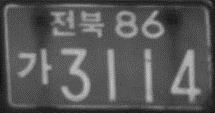1: (142, 47, 156, 105), (105, 47, 118, 104)
3: (59, 46, 92, 103)
4: (168, 46, 202, 104)
6: (141, 8, 164, 38)
8: (115, 9, 139, 38)
가: (16, 48, 53, 86)
전북_O: (49, 8, 104, 38)
